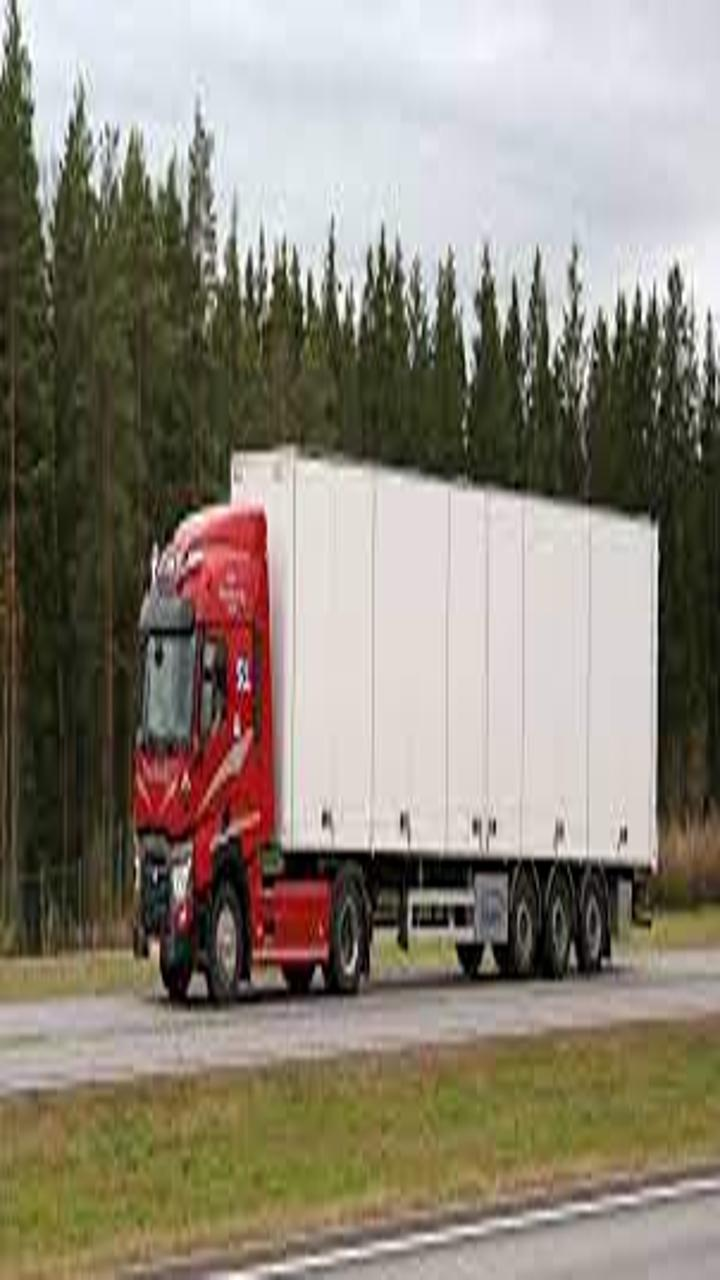vehicle: (92, 419, 699, 1031)
